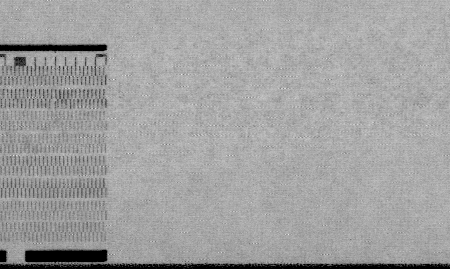Oblique printing: (48, 100, 58, 111)
